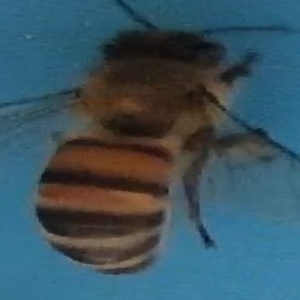bee: (28, 13, 293, 277)
